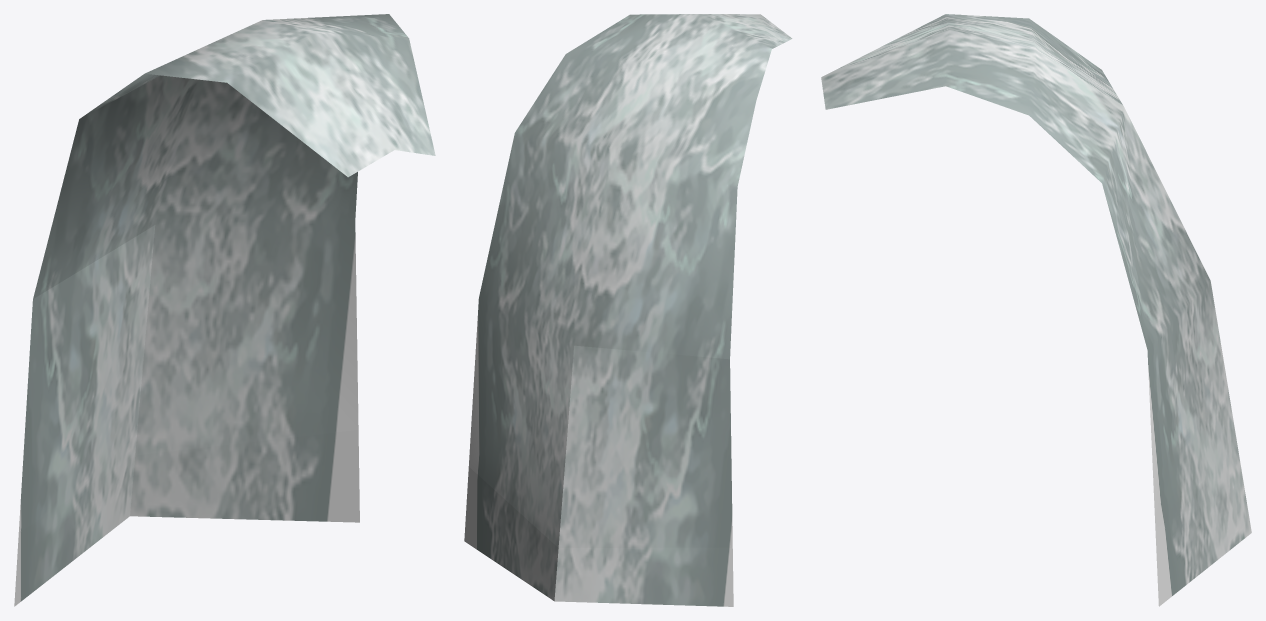
Rendered from waterfall.FBX.
3 renders of one model, left to right at view 1: azimuth 30°, elevation 25°; view 2: azimuth 150°, elevation 25°; view 3: azimuth 270°, elevation 25°, orthographic. The views are drawn at different scales.
Parts seen in each view (by area): view 1: waterfall; view 2: waterfall; view 3: waterfall.
Part boxes in pixels (x1,y1,x2,y2): waterfall: (14,14,435,606); waterfall: (464,14,792,606); waterfall: (821,14,1251,606).
Size of the model in its own units: 126 by 167 by 218.
